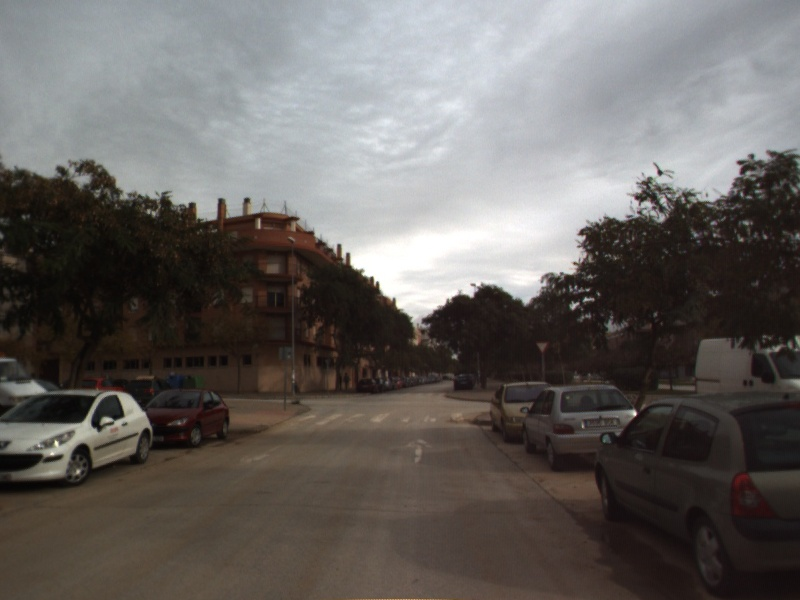STRAIGHT: (401, 436, 436, 465)
